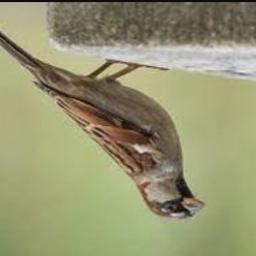Sparrow: (0, 23, 205, 219)
